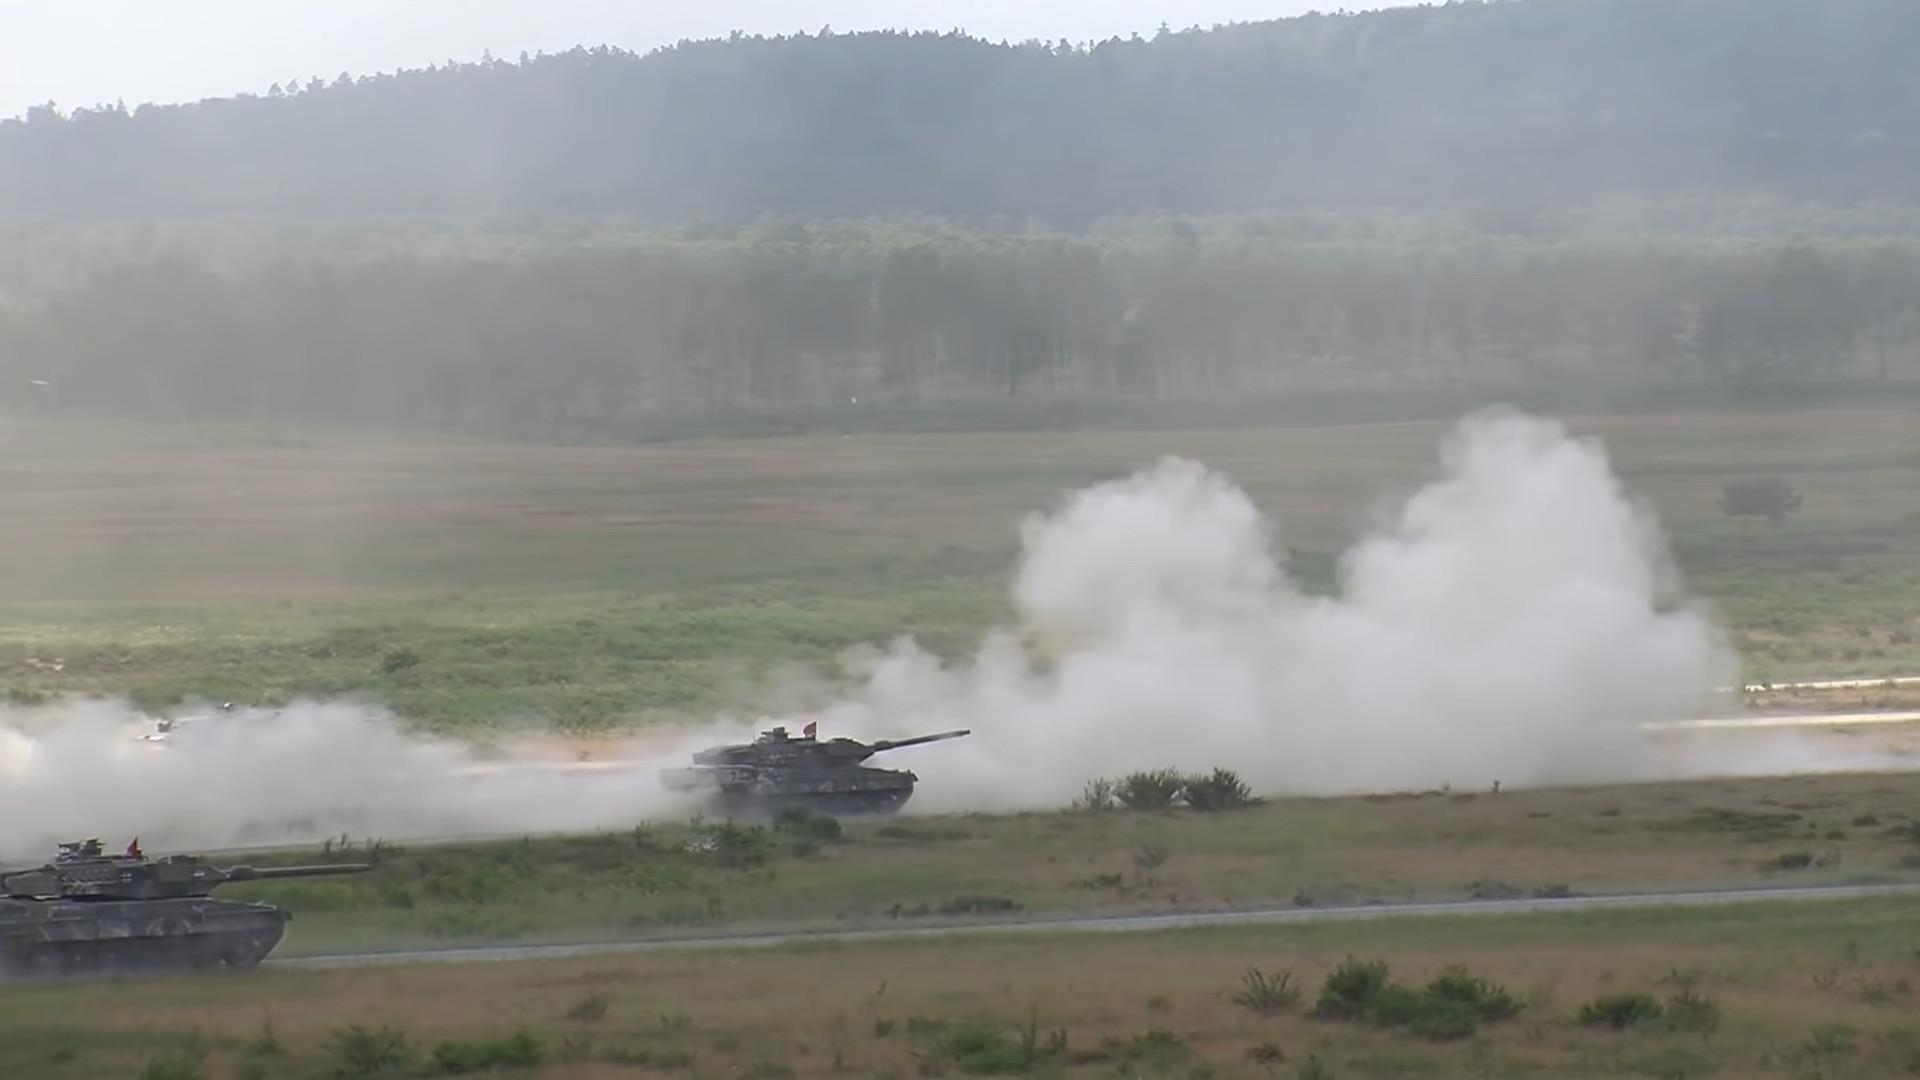tank: (7, 839, 368, 975), (661, 729, 971, 815)
